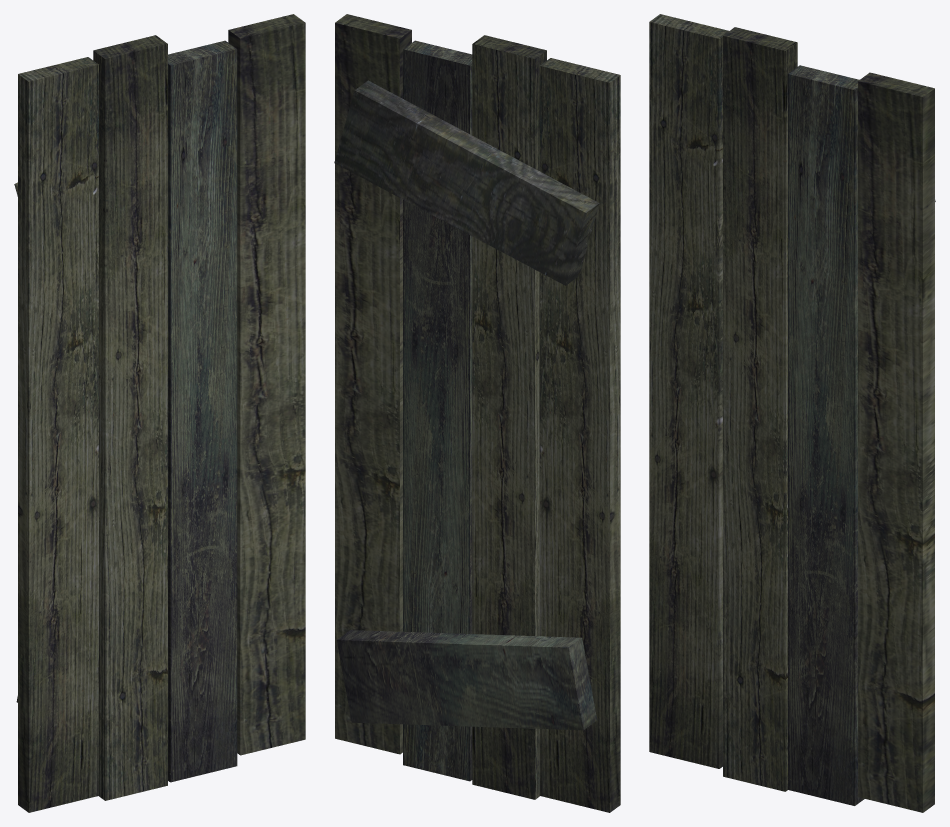
File: OldWoodenFence 1m.fbx
3 views of the same model, side by side, from view 1: azimuth 30°, elevation 25°; view 2: azimuth 150°, elevation 25°; view 3: azimuth 330°, elevation 25° (orthographic).
Visible parts, largest first — view 1: OldWoodenFence_1m; view 2: OldWoodenFence_1m; view 3: OldWoodenFence_1m.
Part boxes in pixels (x1=…): OldWoodenFence_1m: x1=14, y1=14, x2=305, y2=812; OldWoodenFence_1m: x1=334, y1=14, x2=620, y2=812; OldWoodenFence_1m: x1=649, y1=14, x2=935, y2=812.
Size of the model in its own units: 0.9882 by 2.54 by 0.1612.
